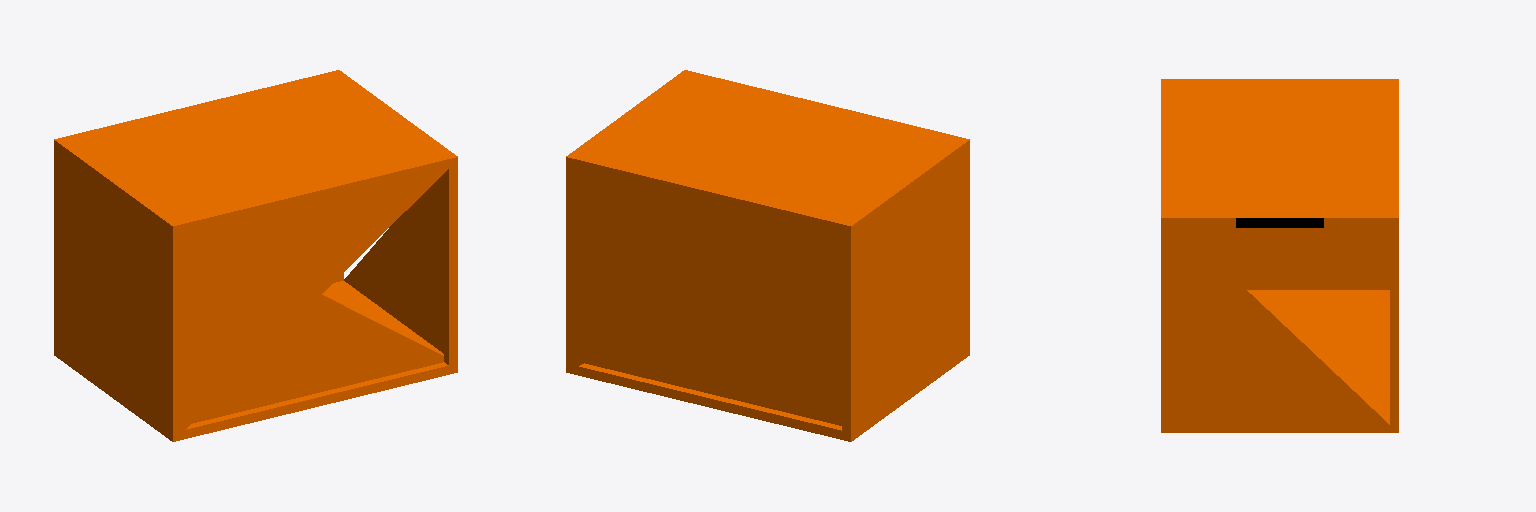
3 renders of one model, left to right at view 1: azimuth 30°, elevation 25°; view 2: azimuth 150°, elevation 25°; view 3: azimuth 270°, elevation 25°, orthographic.
Parts seen in each view (by area): view 1: Cube.001; view 2: Cube.001; view 3: Cube.001.
Part boxes in pixels (left/top/right/bottom): Cube.001: left=54, top=70, right=457, bottom=441; Cube.001: left=566, top=70, right=969, bottom=441; Cube.001: left=1161, top=79, right=1398, bottom=432.
Size of the model in its own units: 0.72 by 0.52 by 0.52.
2 materials, 1 textured.